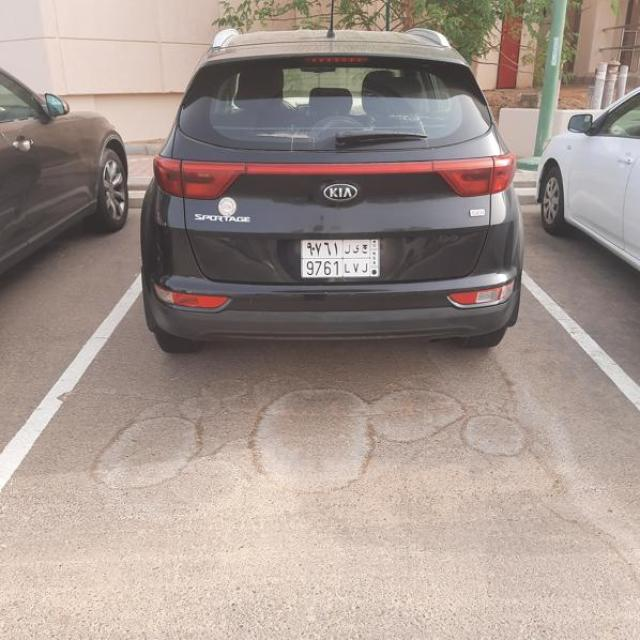license_plate: (301, 239, 380, 277)
